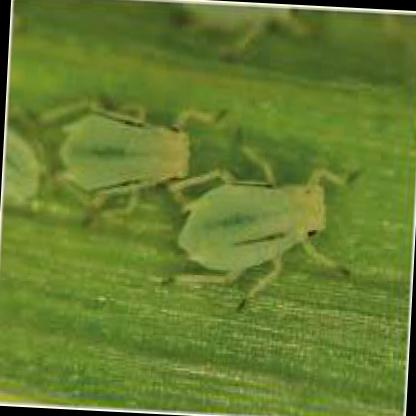schizaphis graminum: (176, 140, 347, 291), (51, 96, 213, 221)
